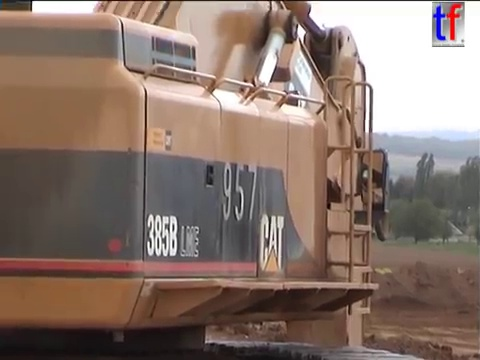excavator: (1, 1, 430, 360)
